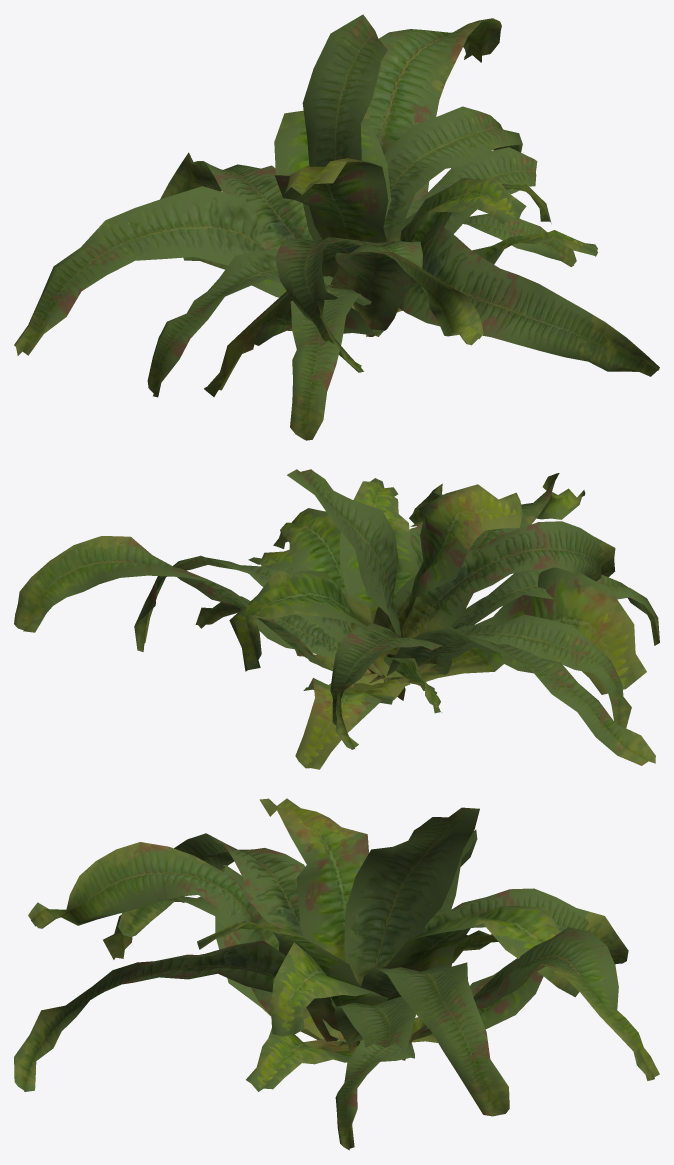
The model's file is fern_02.glb.
3 views of the same model, one above another, from view 1: azimuth 30°, elevation 25°; view 2: azimuth 150°, elevation 25°; view 3: azimuth 270°, elevation 25° (orthographic). The views are drawn at different scales.
Visible parts, largest first — view 1: fern_02_b; view 2: fern_02_b; view 3: fern_02_b.
Part boxes in pixels (x1,y1,x2,y2): fern_02_b: [14, 14, 659, 440]; fern_02_b: [14, 469, 659, 769]; fern_02_b: [14, 798, 659, 1150].
Size of the model in its own units: 0.9897 by 0.4277 by 0.8937.
Materials: 1 (1 with a texture image).
